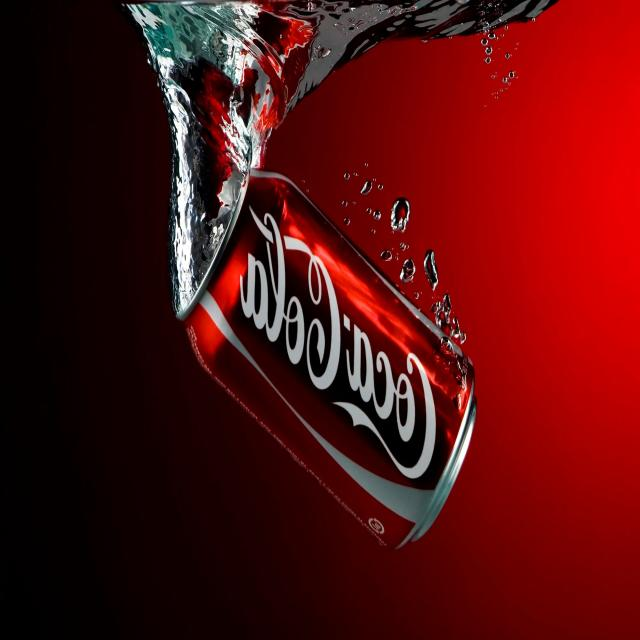coca cola: (234, 203, 442, 497)
